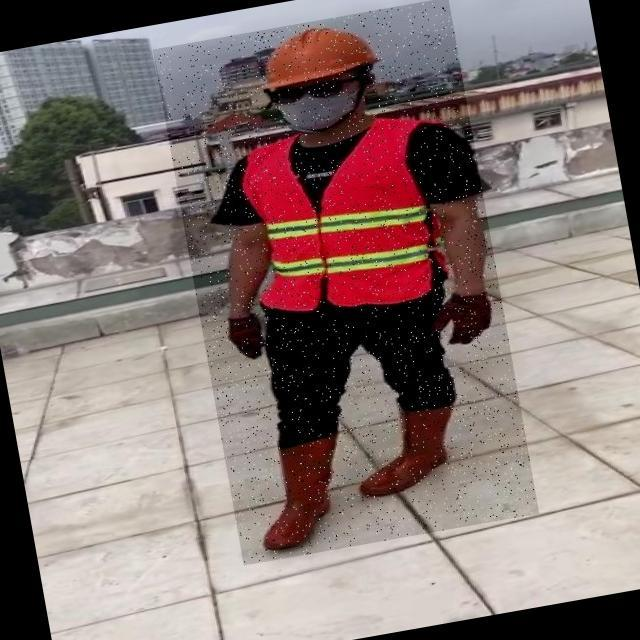Gloves: (421, 289, 499, 351), (224, 313, 269, 363)
Helmet: (250, 14, 384, 93)
Human: (153, 0, 539, 565)
Safety Boot: (245, 435, 355, 553), (348, 401, 468, 500)
Safety Vest: (232, 114, 449, 323)
